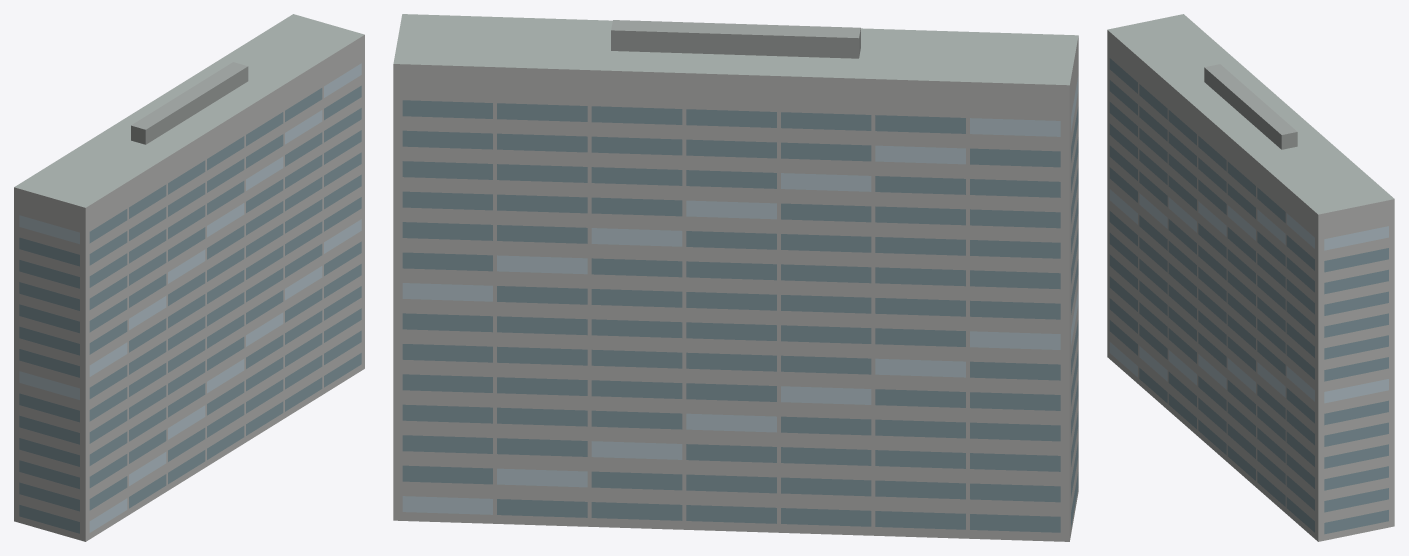
Rendered from fallback-olympic-athletes-village-311.glb.
3 views of the same model, side by side, from view 1: azimuth 30°, elevation 25°; view 2: azimuth 150°, elevation 25°; view 3: azimuth 270°, elevation 25° (orthographic). The views are drawn at different scales.
Visible parts, largest first — view 1: fallback-olympic-athletes-village-311; view 2: fallback-olympic-athletes-village-311; view 3: fallback-olympic-athletes-village-311.
Part boxes in pixels (bbox=[...]): fallback-olympic-athletes-village-311: bbox=[14, 14, 364, 541]; fallback-olympic-athletes-village-311: bbox=[393, 14, 1078, 541]; fallback-olympic-athletes-village-311: bbox=[1107, 14, 1394, 541].
Bounding box in the file's own units: 60.14 × 47.81 × 36.43.
